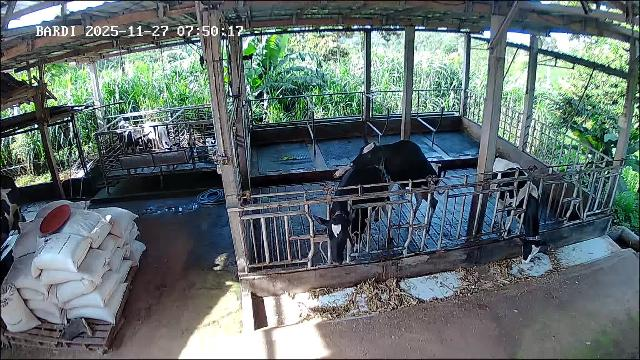mounting: (332, 139, 445, 242)
